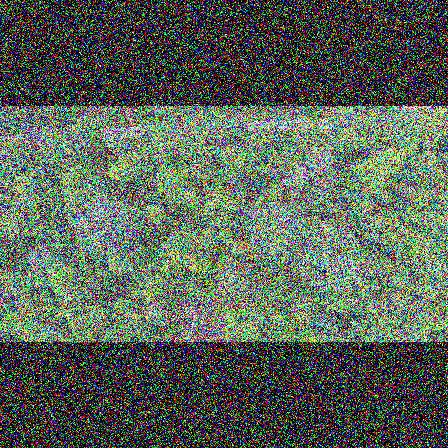Dead: (24, 244, 52, 268), (185, 315, 199, 339), (201, 322, 223, 336)
